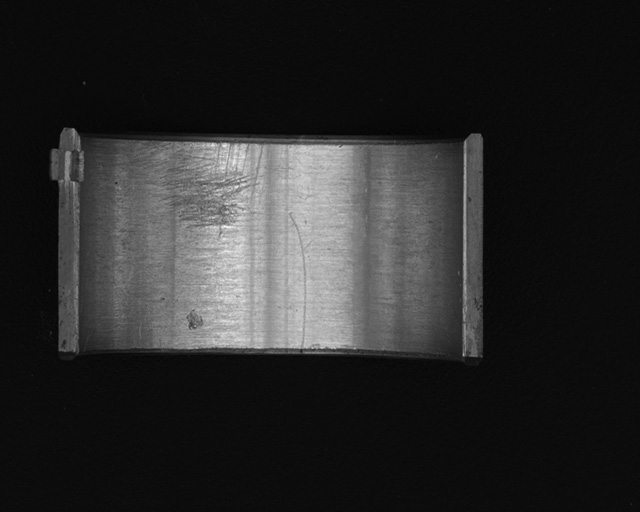bruise: (187, 310, 205, 331)
nick: (288, 211, 307, 352)
scratch: (142, 140, 269, 241)
